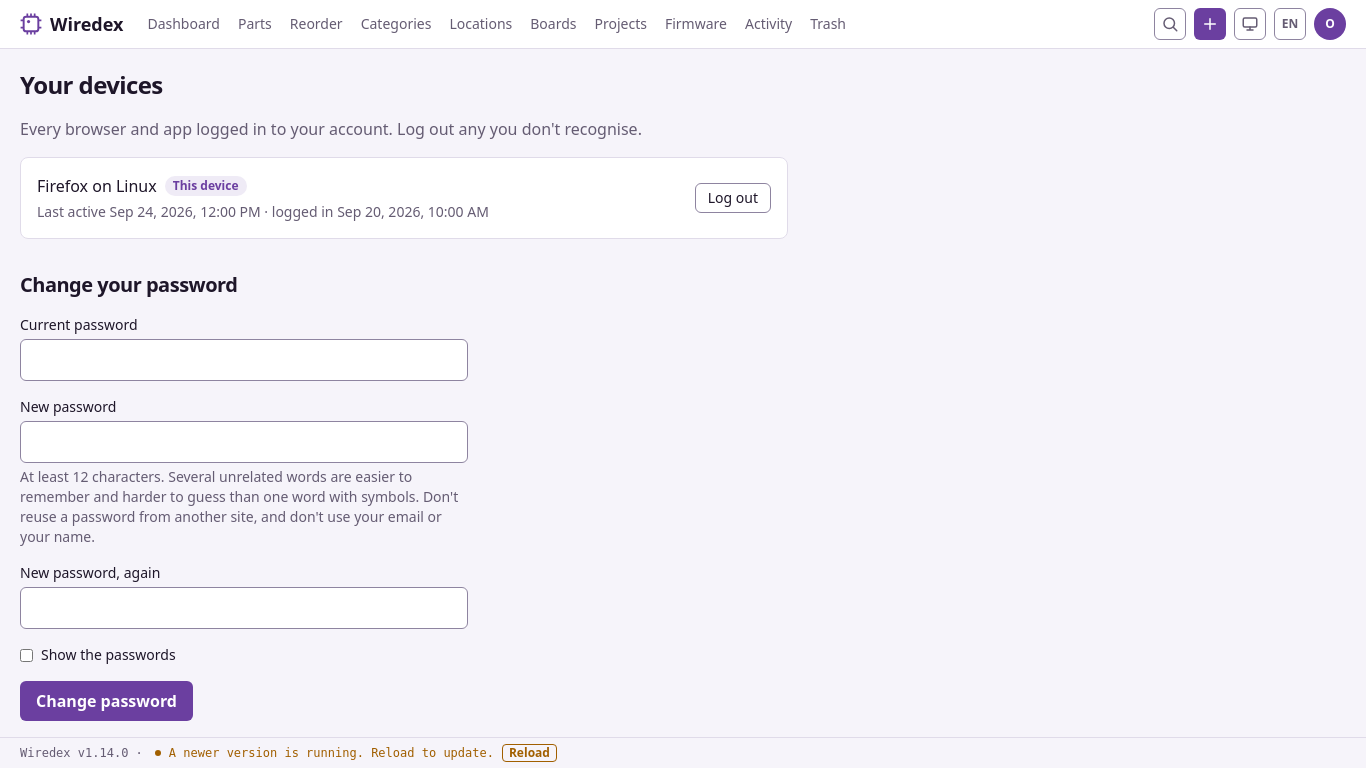
SessionsPage › returns to the login page after logging this device out
This screenshot has width=1366, height=768.
Click the button "Log out": (733, 198) [695,183,771,213]
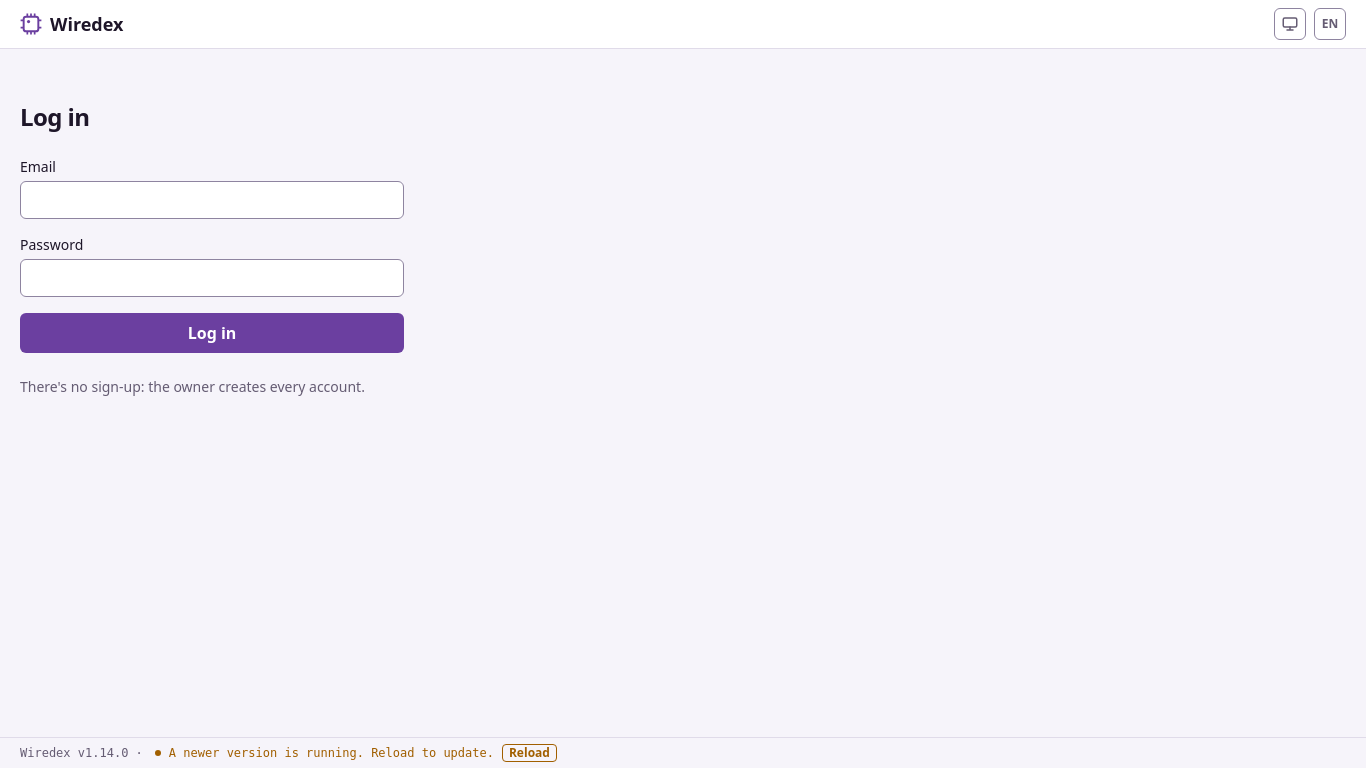
Check: the heading "Log in" is shown, box [20,100,89,133]
